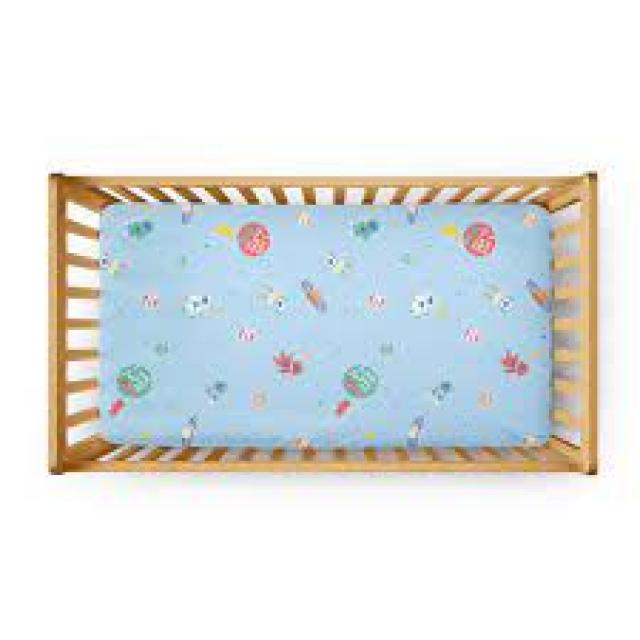crib: (46, 168, 600, 475)
